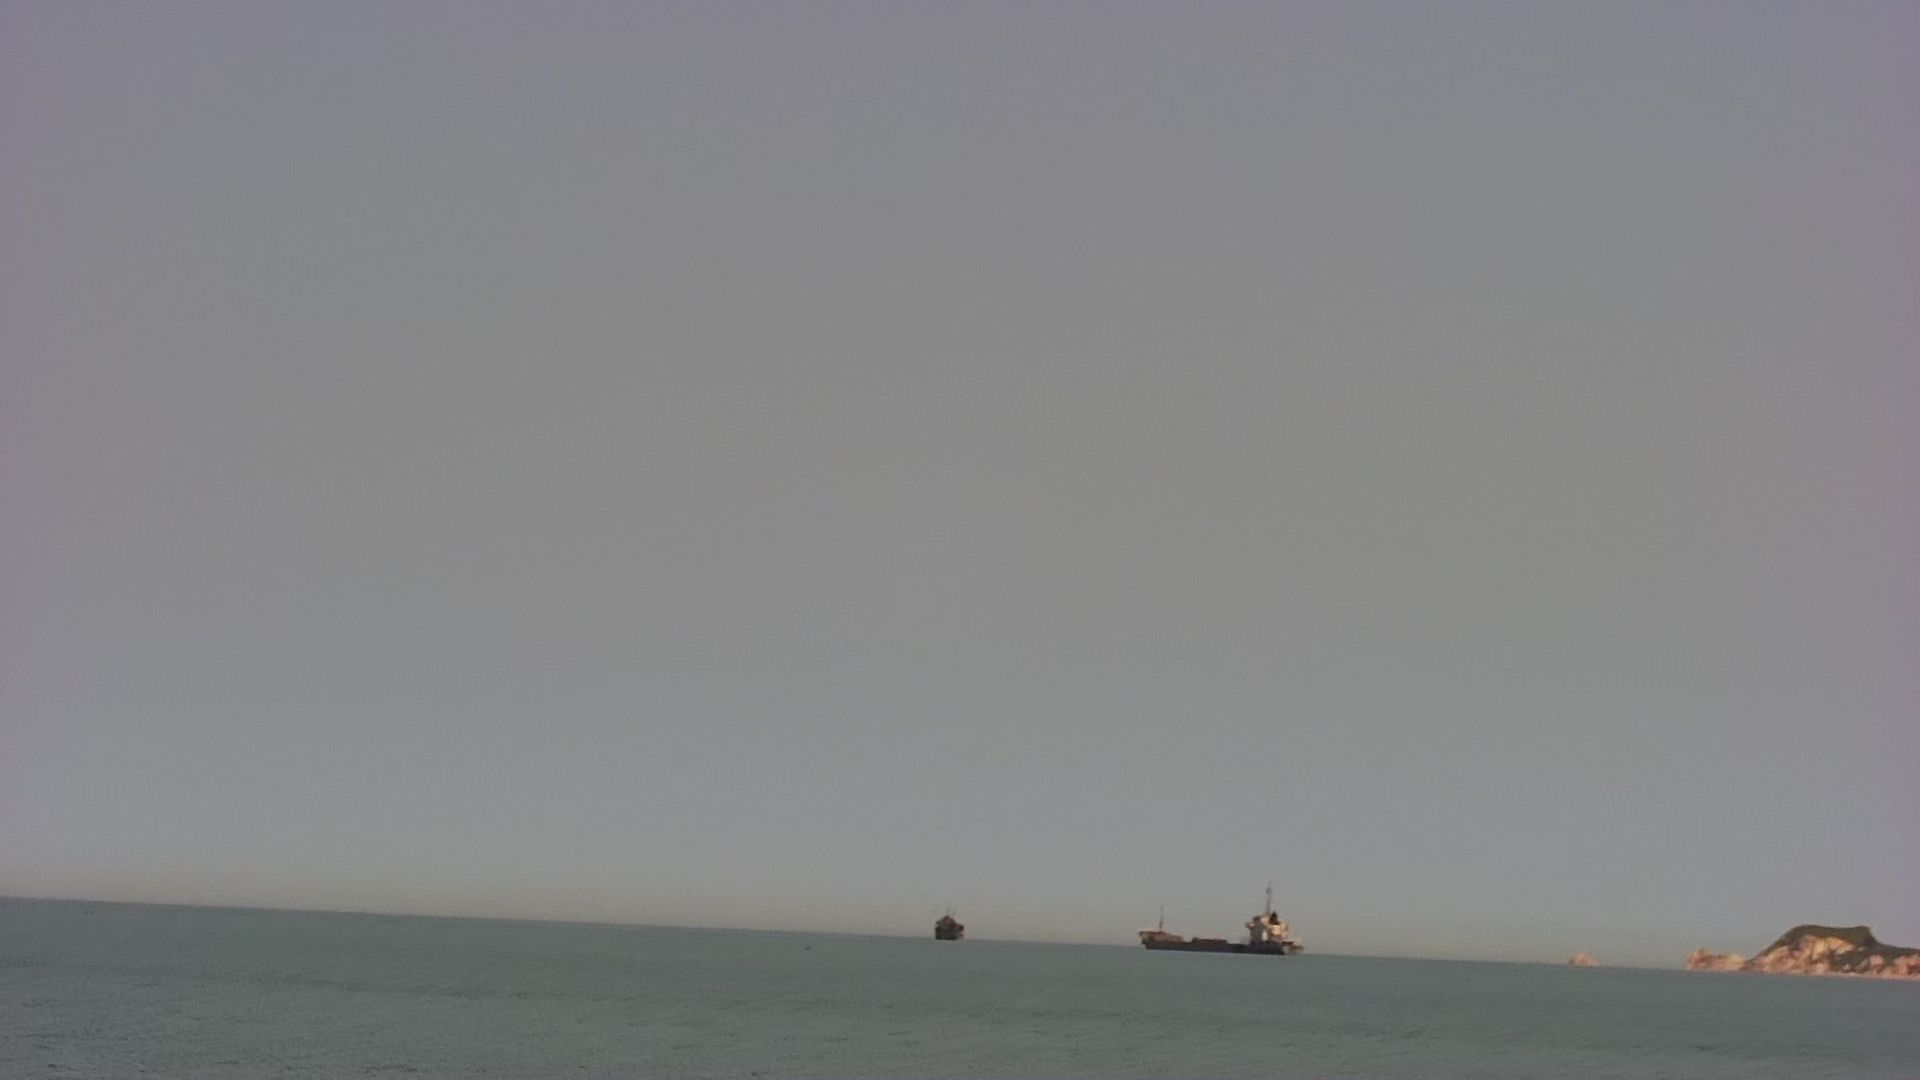rock: (1684, 919, 1920, 976)
ship: (1137, 891, 1307, 963), (928, 913, 967, 942)
